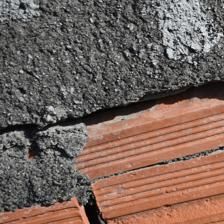Crack: (2, 37, 220, 105)
